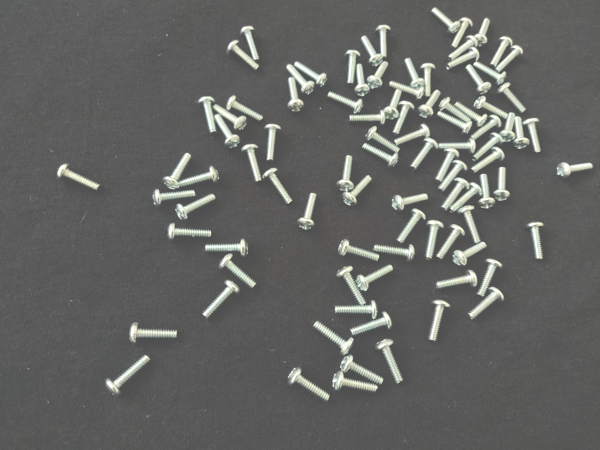shortscrew: (104, 355, 151, 397), (313, 321, 354, 359), (288, 367, 331, 403), (202, 280, 240, 320), (340, 356, 385, 387), (218, 254, 257, 289), (375, 339, 404, 385), (337, 266, 368, 307), (263, 167, 294, 207), (56, 163, 100, 190), (469, 287, 504, 320), (175, 194, 216, 222), (128, 322, 177, 345), (396, 209, 427, 245), (436, 224, 466, 261), (163, 153, 191, 191), (356, 264, 394, 292), (362, 142, 400, 170), (226, 40, 260, 71), (351, 312, 393, 337), (333, 371, 378, 394), (177, 165, 220, 189), (226, 96, 265, 122), (212, 103, 248, 131), (342, 175, 372, 208), (286, 65, 316, 98), (409, 138, 439, 171), (450, 183, 483, 213), (471, 146, 506, 174), (478, 259, 503, 298), (214, 114, 241, 150), (365, 126, 401, 153), (339, 240, 379, 264), (498, 82, 526, 115), (295, 62, 329, 89), (443, 177, 470, 211), (430, 299, 451, 342), (167, 223, 212, 243), (473, 132, 503, 162), (458, 206, 482, 243), (205, 238, 249, 258), (242, 145, 264, 185), (452, 242, 487, 267), (437, 111, 472, 136), (440, 161, 469, 191), (455, 102, 488, 128), (328, 92, 363, 116), (473, 62, 508, 86), (470, 115, 502, 141), (153, 189, 196, 208), (335, 300, 378, 319), (446, 47, 480, 71), (394, 124, 431, 146), (439, 97, 469, 124), (467, 64, 492, 96), (425, 221, 445, 261), (240, 26, 261, 64), (437, 148, 459, 184), (432, 7, 461, 34), (475, 96, 509, 119), (526, 223, 546, 262), (448, 36, 479, 61), (393, 101, 415, 136), (438, 270, 478, 289), (374, 245, 415, 263), (298, 193, 317, 231), (264, 124, 283, 162), (198, 96, 217, 134), (496, 45, 523, 71), (392, 193, 428, 212), (523, 118, 542, 154), (367, 61, 389, 92), (362, 36, 384, 67), (337, 156, 355, 193), (453, 17, 474, 48), (492, 36, 513, 67), (287, 77, 305, 113), (439, 138, 477, 155), (418, 90, 441, 118), (494, 167, 512, 202), (344, 50, 361, 86), (349, 110, 387, 126), (405, 58, 424, 89), (479, 175, 496, 209), (558, 163, 593, 179), (376, 24, 391, 60), (385, 89, 402, 120), (500, 112, 517, 143), (421, 63, 436, 98), (356, 64, 371, 97), (515, 117, 530, 150), (474, 18, 491, 45)
